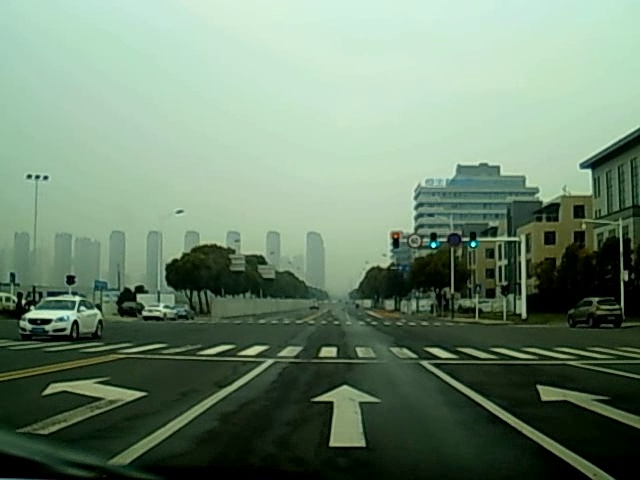Traffic_Light_go: (430, 231, 437, 249), (470, 233, 476, 249)
Traffic_Light_stop: (393, 233, 400, 252)
